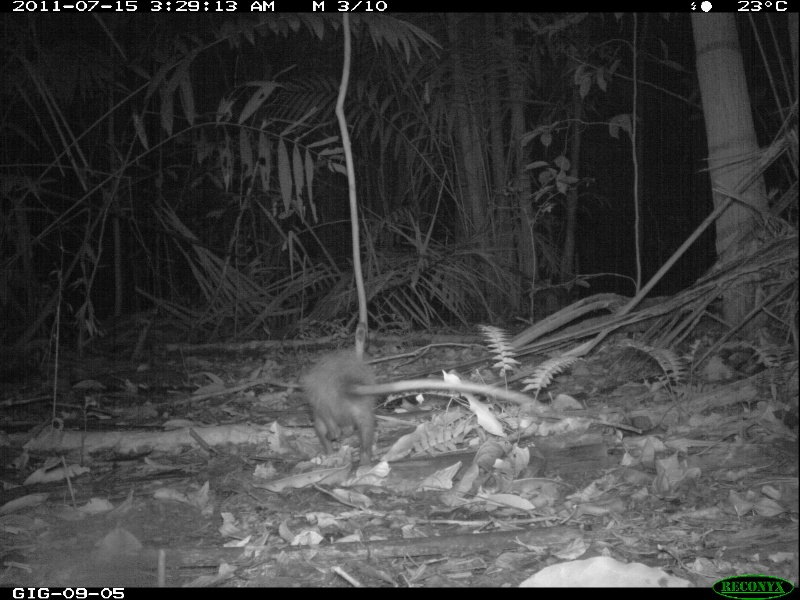opossum: (297, 348, 551, 461)
